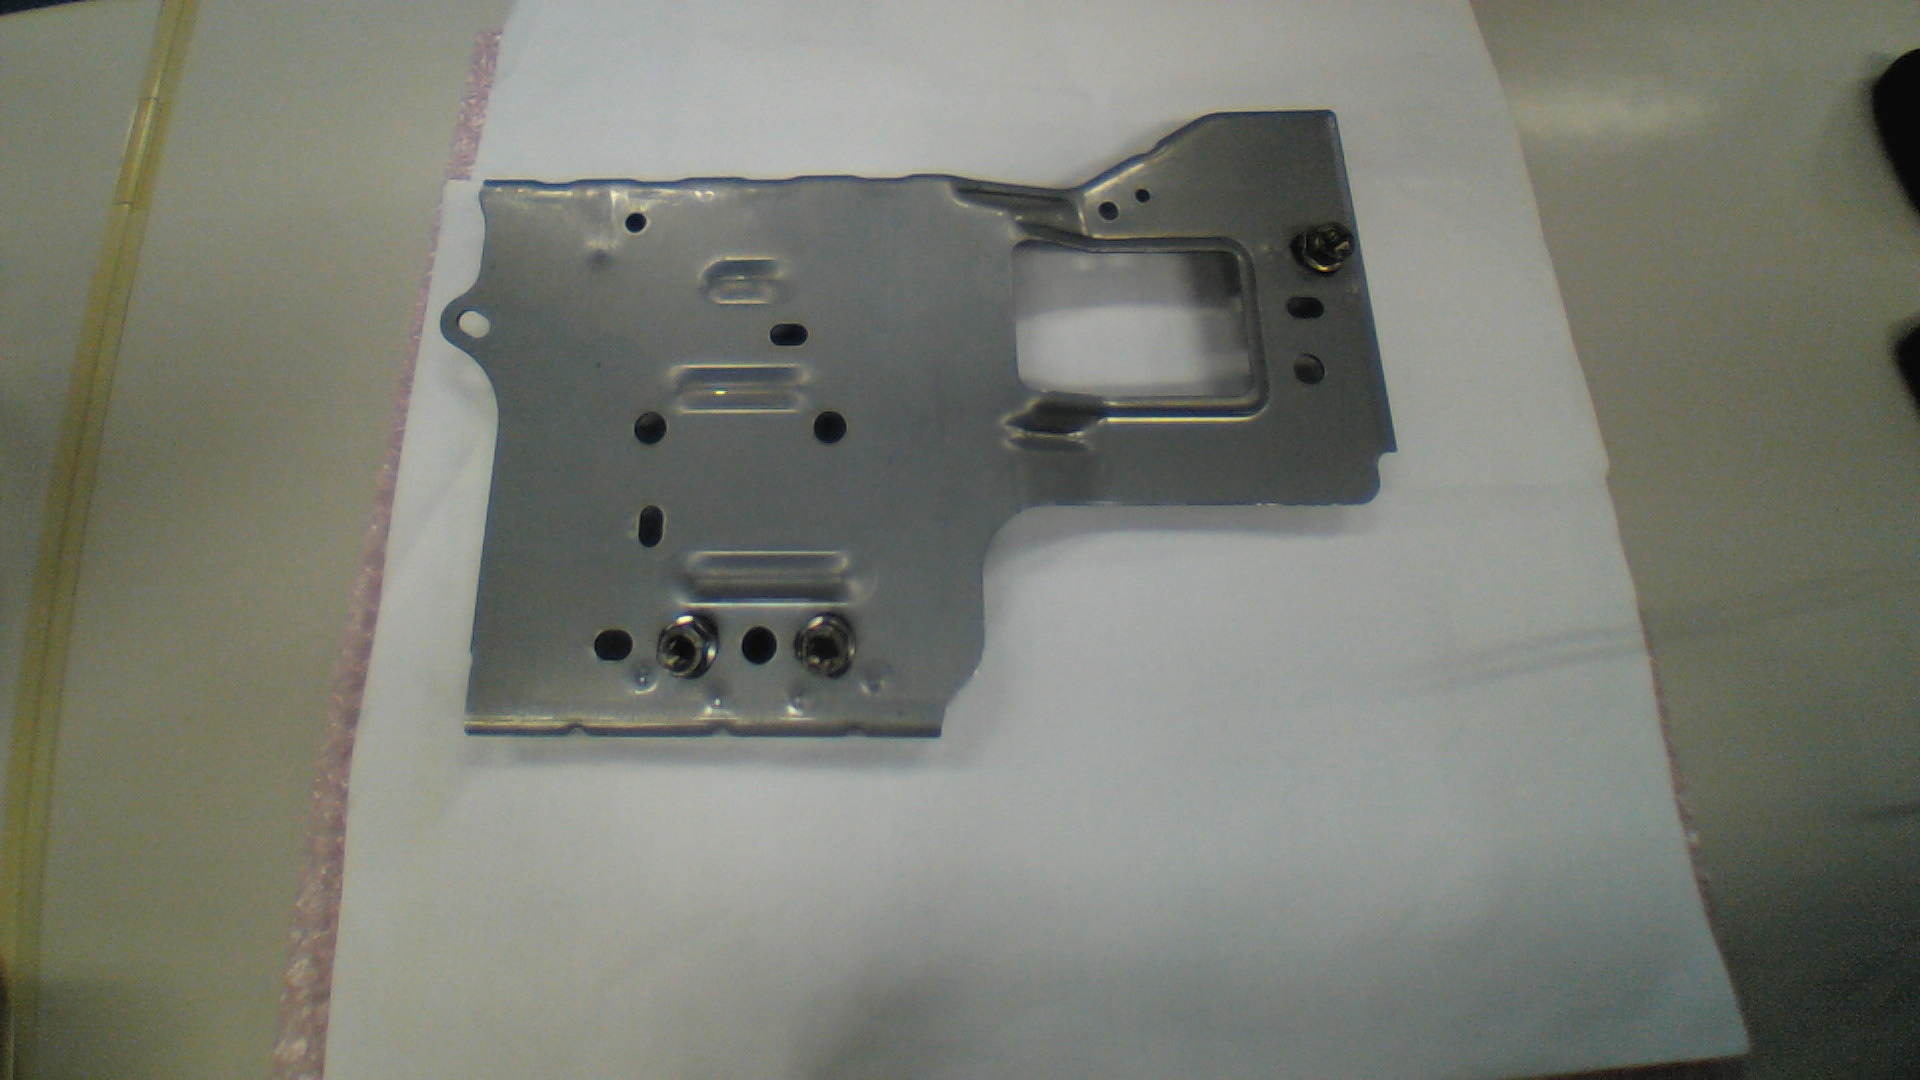dog: (793, 609, 861, 679), (655, 612, 721, 680), (1288, 222, 1356, 276)
